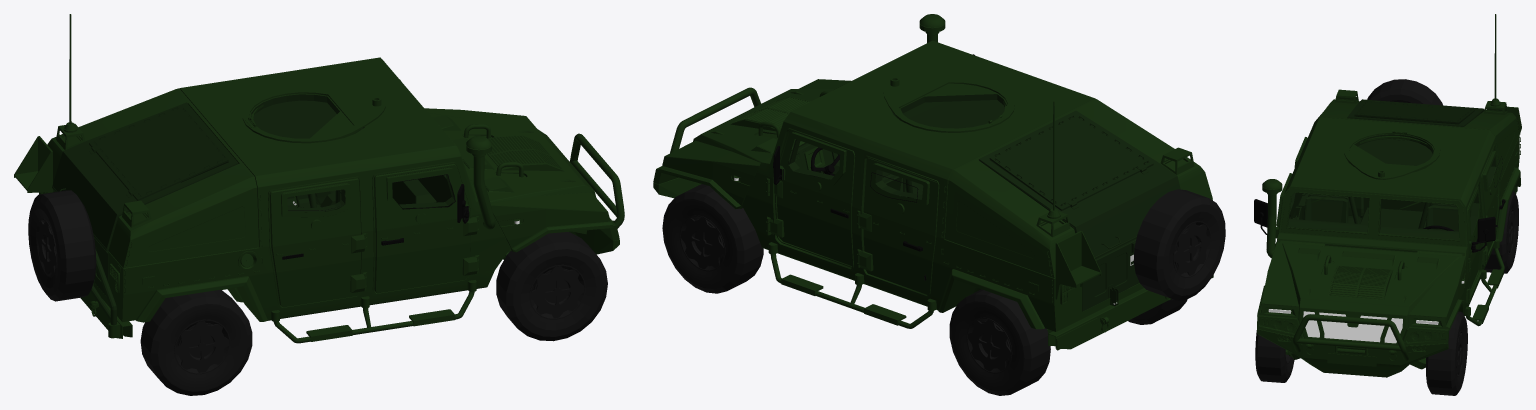
Rendered from MSP_VAMTAC.glb.
3 views of the same model, side by side, from view 1: azimuth 30°, elevation 25°; view 2: azimuth 150°, elevation 25°; view 3: azimuth 270°, elevation 25° (orthographic). The views are drawn at different scales.
Parts seen in each view (by area): view 1: object_0.001, object_1.001, object_34.001, object_32.001, object_40.001, object_30.001, object_43.001, object_33.001, object_42.001, object_2.001, object_17.001, object_3.001 (+4 smaller); view 2: object_0.001, object_30.001, object_43.001, object_33.001, object_31.001, object_1.001, object_23.001, object_41.001, object_42.001, object_2.001, object_4.001, object_3.001 (+3 smaller); view 3: object_0.001, object_1.001, object_17.001, object_4.001, object_31.001, object_2.001, object_5.001, object_43.001, object_3.001, object_32.001, object_33.001, object_30.001 (+9 smaller).
Boxes of the visible parts, x1,y1,x2,y2 form: object_0.001: (14, 57, 624, 343); object_1.001: (424, 108, 613, 252); object_34.001: (269, 178, 364, 307); object_32.001: (496, 232, 607, 341); object_40.001: (374, 163, 477, 293); object_30.001: (140, 289, 252, 395); object_43.001: (89, 105, 228, 200); object_33.001: (28, 190, 96, 301); object_42.001: (52, 102, 238, 251); object_2.001: (242, 89, 385, 143); object_17.001: (108, 162, 456, 247); object_3.001: (253, 100, 336, 138); object_0.001: (653, 14, 1213, 349); object_30.001: (949, 289, 1187, 395); object_43.001: (989, 114, 1153, 210); object_33.001: (1133, 189, 1225, 300); object_31.001: (662, 184, 763, 293); object_1.001: (658, 79, 850, 208); object_23.001: (859, 157, 937, 294); object_41.001: (770, 130, 853, 265); object_42.001: (979, 110, 1180, 258); object_2.001: (883, 77, 1014, 132); object_4.001: (658, 91, 1188, 350); object_3.001: (903, 100, 1004, 128); object_0.001: (1257, 89, 1521, 377); object_1.001: (1257, 242, 1465, 345); object_17.001: (1288, 116, 1471, 240); object_4.001: (1263, 14, 1517, 369); object_31.001: (1426, 311, 1467, 395); object_2.001: (1344, 130, 1440, 179); object_5.001: (1268, 281, 1464, 343); object_43.001: (1354, 100, 1474, 123); object_3.001: (1358, 138, 1432, 165); object_32.001: (1255, 330, 1294, 382); object_33.001: (1367, 79, 1443, 105); object_30.001: (1484, 190, 1518, 273).
Size of what is drawn, in the model's own units: 4.97 by 2.66 by 2.75.
